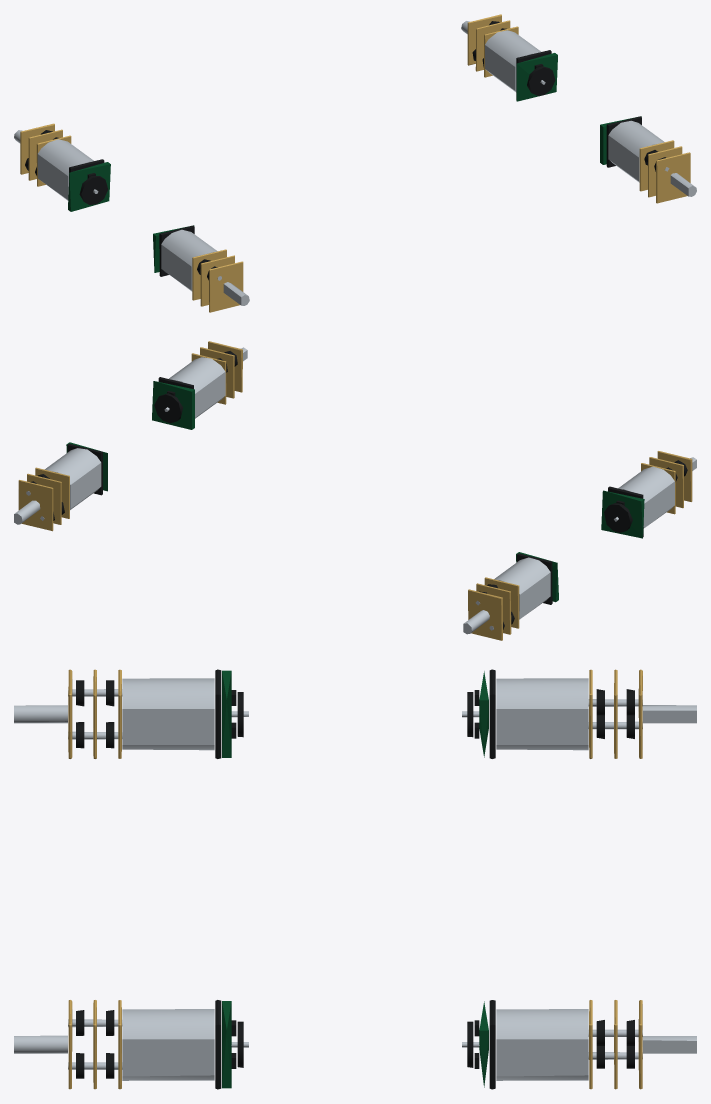
The model's file is motor_torque.glb.
3 renders of one model, top to bottom at view 1: azimuth 30°, elevation 25°; view 2: azimuth 150°, elevation 25°; view 3: azimuth 270°, elevation 25°, orthographic. The views are drawn at different scales.
Parts seen in each view (by area): view 1: mesh_steel_14, mesh_brass_8, mesh_rubber_and_chip_5, mesh_pcb_11; view 2: mesh_steel_14, mesh_brass_8, mesh_pcb_11, mesh_rubber_and_chip_5; view 3: mesh_steel_14, mesh_rubber_and_chip_5, mesh_brass_8, mesh_pcb_11.
Part boxes in pixels (x1,y1,x2,y2): mesh_steel_14: (14, 21, 696, 305); mesh_brass_8: (20, 14, 690, 312); mesh_rubber_and_chip_5: (25, 21, 665, 280); mesh_pcb_11: (68, 53, 641, 272); mesh_steel_14: (14, 347, 696, 634); mesh_brass_8: (18, 341, 692, 640); mesh_pcb_11: (66, 381, 644, 602); mesh_rubber_and_chip_5: (30, 351, 687, 629); mesh_steel_14: (14, 678, 696, 1080); mesh_rubber_and_chip_5: (76, 669, 634, 1089); mesh_brass_8: (68, 669, 642, 1089); mesh_pcb_11: (222, 670, 488, 1088).
Size of the model in its own units: 1.42 by 0.1203 by 1.14.
